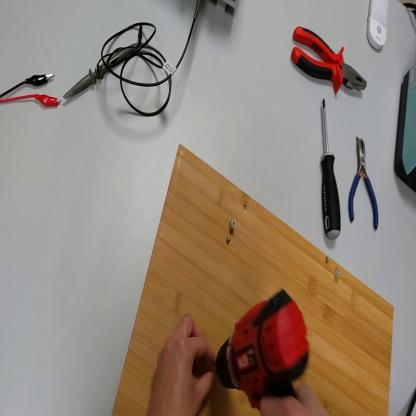electric screwdriver: (214, 286, 313, 413)
hand: (150, 310, 218, 416), (260, 376, 323, 413)
oscilloscope: (214, 2, 240, 13)
oscilloscope probe tip: (64, 44, 142, 101)
pliers: (293, 25, 369, 93), (348, 135, 380, 233)
screwdriver-: (317, 97, 343, 242)
welder station: (394, 64, 416, 194)
working area: (112, 145, 393, 416)
